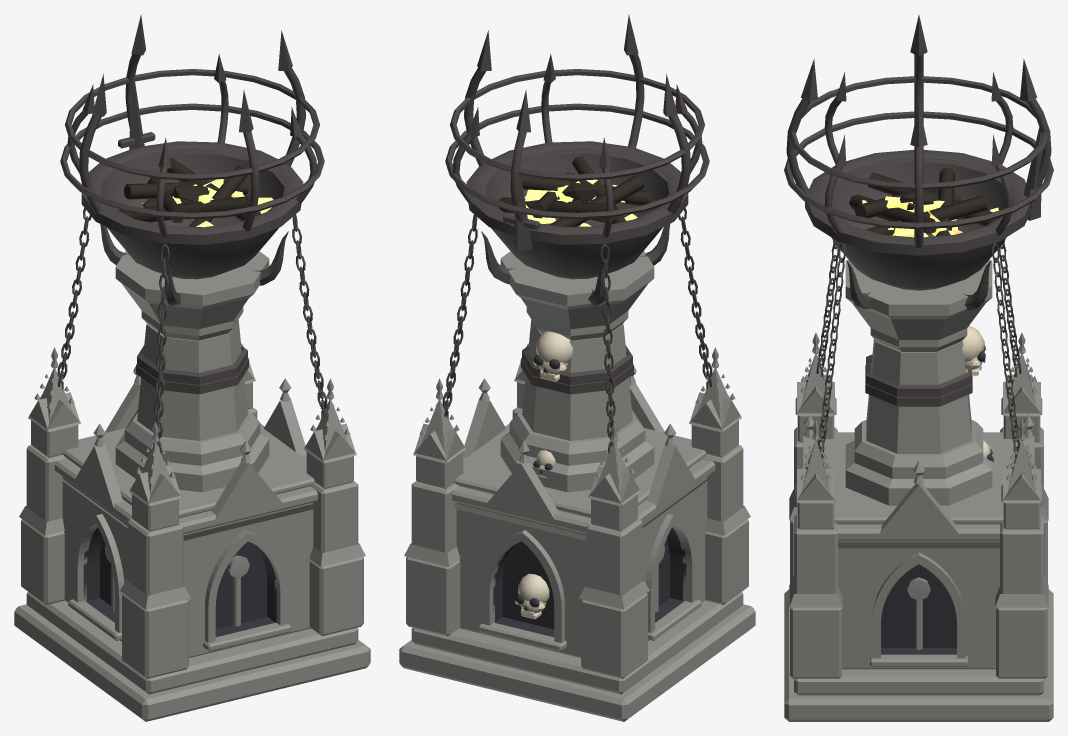
The model's file is tower_pyre_1.glb.
3 renders of one model, left to right at view 1: azimuth 30°, elevation 25°; view 2: azimuth 150°, elevation 25°; view 3: azimuth 270°, elevation 25°, orthographic.
Parts seen in each view (by area): view 1: tower; view 2: tower; view 3: tower.
Boxes of the visible parts, bbox=[...] form: tower: bbox=[14, 14, 370, 721]; tower: bbox=[399, 14, 755, 721]; tower: bbox=[784, 15, 1053, 721].
Bounding box in the file's own units: 1.7 × 4.24 × 1.7.
